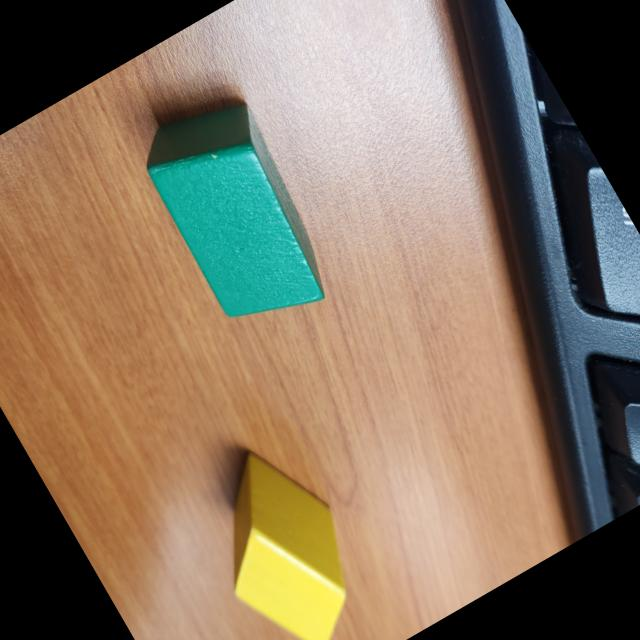green: (127, 81, 353, 348)
yellow: (176, 427, 393, 640)
